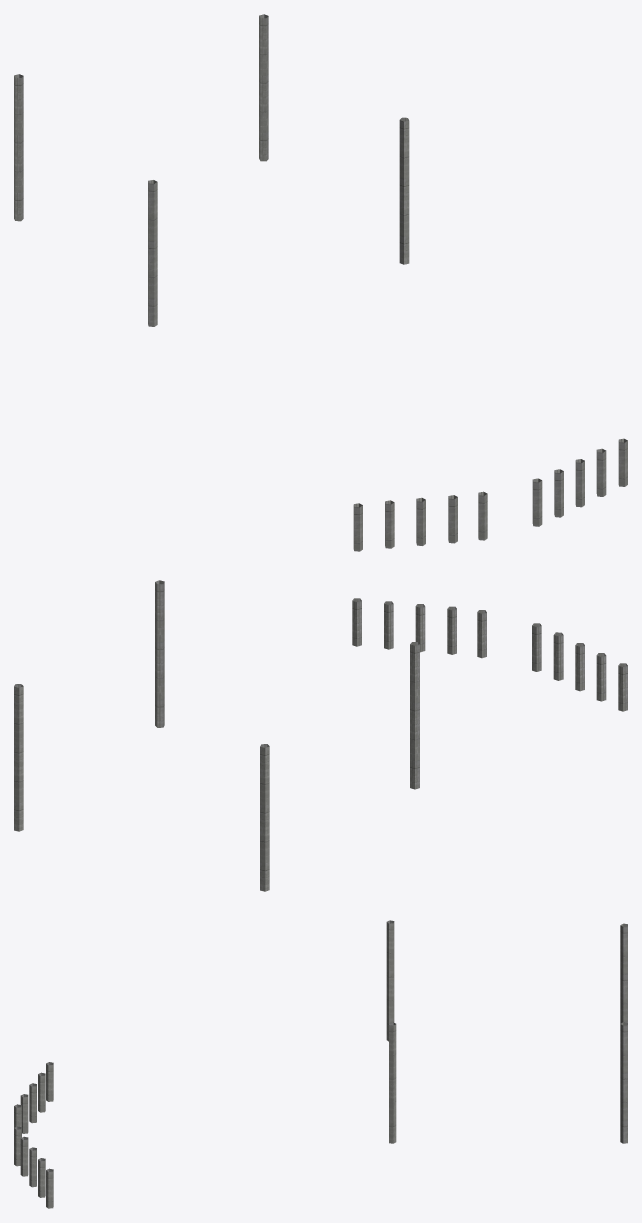
Rendered from PilaresMap2.fbx.
3 renders of one model, top to bottom at view 1: azimuth 30°, elevation 25°; view 2: azimuth 150°, elevation 25°; view 3: azimuth 270°, elevation 25°, orthographic. The views are drawn at different scales.
Visible parts, largest first — view 1: Pilares.001, Pilares.002, Pilares, Pilares.003; view 2: Pilares, Pilares.003, Pilares.001, Pilares.002, Cylinder.007, Cylinder.009, Cylinder.004, Cylinder.006, Cylinder.002, Cylinder.011, Cylinder.001, Cylinder.005 (+2 smaller); view 3: Pilares, Pilares.002, Pilares.001, Pilares.003.
Boxes of the visible parts, x1=… form: Pilares.001: x1=399, y1=117, x2=409, y2=264; Pilares.002: x1=259, y1=14, x2=268, y2=161; Pilares: x1=148, y1=180, x2=157, y2=326; Pilares.003: x1=14, y1=74, x2=23, y2=221; Pilares: x1=410, y1=642, x2=419, y2=789; Pilares.003: x1=260, y1=744, x2=269, y2=891; Pilares.001: x1=155, y1=580, x2=164, y2=727; Pilares.002: x1=14, y1=684, x2=23, y2=831; Cylinder.007: x1=553, y1=632, x2=563, y2=680; Cylinder.009: x1=596, y1=653, x2=606, y2=701; Cylinder.004: x1=447, y1=606, x2=456, y2=654; Cylinder.006: x1=532, y1=623, x2=541, y2=671; Cylinder.002: x1=384, y1=601, x2=393, y2=649; Cylinder.011: x1=618, y1=663, x2=627, y2=711; Cylinder.001: x1=352, y1=598, x2=361, y2=646; Cylinder.005: x1=477, y1=610, x2=486, y2=658; Pilares: x1=386, y1=920, x2=394, y2=1041; Pilares.002: x1=620, y1=1022, x2=627, y2=1143; Pilares.001: x1=389, y1=1022, x2=396, y2=1143; Pilares.003: x1=620, y1=923, x2=627, y2=1023.
Size of the model in its own units: 6003 by 4553 by 14153.
1 material, 1 textured.
